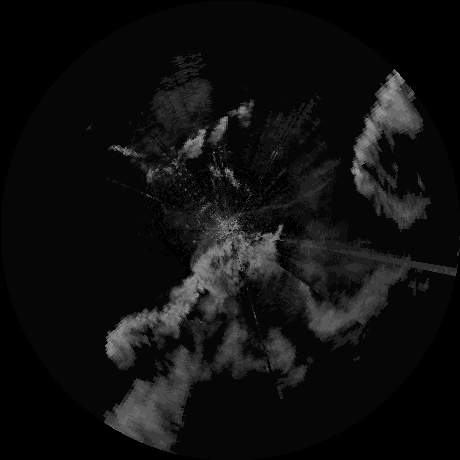frontgust: (233, 196, 308, 226)
